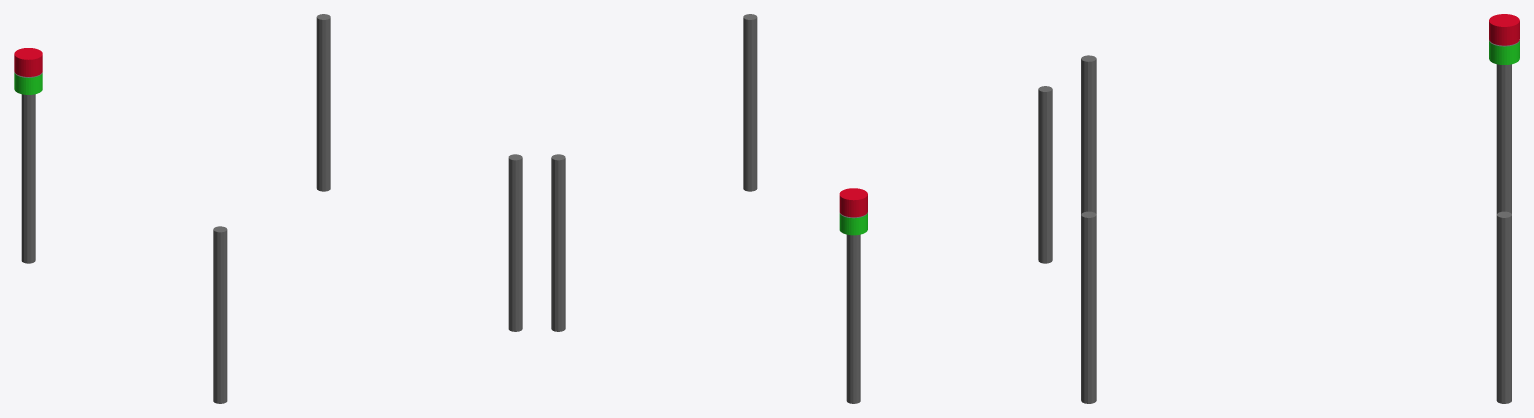
File: light_curtain_cyl.dae
3 renders of one model, left to right at view 1: azimuth 30°, elevation 25°; view 2: azimuth 150°, elevation 25°; view 3: azimuth 270°, elevation 25°, orthographic. The views are drawn at different scales.
Parts seen in each view (by area): view 1: light_curtain_cyl; view 2: light_curtain_cyl; view 3: light_curtain_cyl.
Part boxes in pixels (x1,y1,x2,y2): light_curtain_cyl: (14,14,522,403); light_curtain_cyl: (551,14,1052,403); light_curtain_cyl: (1081,14,1519,403).
Size of the model in its own units: 3.82 by 4.28 by 2.41.
